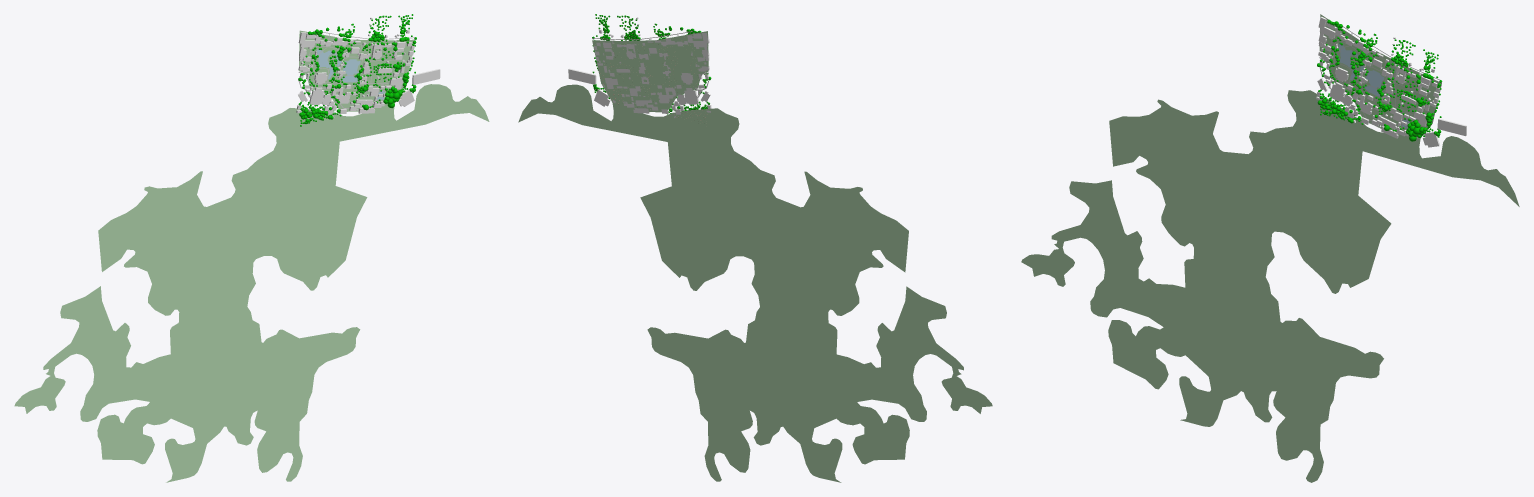
3 renders of one model, left to right at view 1: azimuth 30°, elevation 25°; view 2: azimuth 150°, elevation 25°; view 3: azimuth 330°, elevation 25°, orthographic. The views are drawn at different scales.
Parts seen in each view (by area): view 1: TPX_GreenAreas, TPX_Buildings, TPX_Waterways_1, TPX_RoadsOutlines; view 2: TPX_GreenAreas, TPX_Buildings; view 3: TPX_GreenAreas, TPX_Buildings, TPX_Waterways_1, TPX_RoadsOutlines.
Part boxes in pixels (x1=…): TPX_GreenAreas: x1=14, y1=30, x2=489, y2=482; TPX_Buildings: x1=296, y1=17, x2=440, y2=118; TPX_Waterways_1: x1=317, y1=49, x2=385, y2=99; TPX_RoadsOutlines: x1=298, y1=32, x2=414, y2=108; TPX_GreenAreas: x1=518, y1=31, x2=992, y2=482; TPX_Buildings: x1=568, y1=17, x2=711, y2=117; TPX_GreenAreas: x1=1021, y1=14, x2=1519, y2=482; TPX_Buildings: x1=1316, y1=16, x2=1466, y2=147; TPX_Waterways_1: x1=1338, y1=43, x2=1409, y2=128; TPX_RoadsOutlines: x1=1319, y1=24, x2=1439, y2=138.
Size of the model in its own units: 1670 by 1508 by 27.
